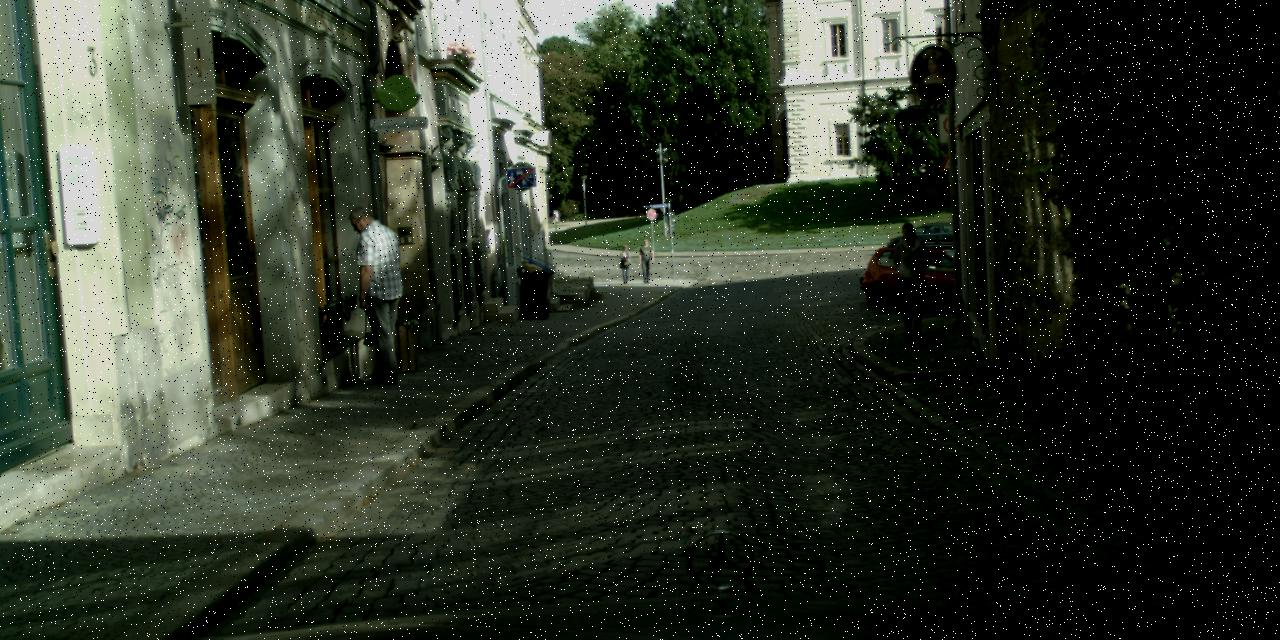ped: (335, 206, 407, 383), (888, 222, 934, 335), (637, 237, 655, 282), (617, 244, 632, 284), (551, 210, 561, 223)
